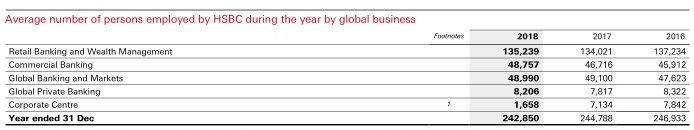column: (4, 1, 416, 130), (501, 1, 541, 130), (579, 1, 615, 130), (652, 1, 688, 130), (433, 1, 465, 130)
row: (1, 13, 694, 26), (1, 46, 693, 57), (1, 59, 694, 69), (1, 86, 694, 96), (1, 99, 694, 109), (1, 31, 694, 40), (1, 113, 694, 122), (1, 73, 693, 82)
